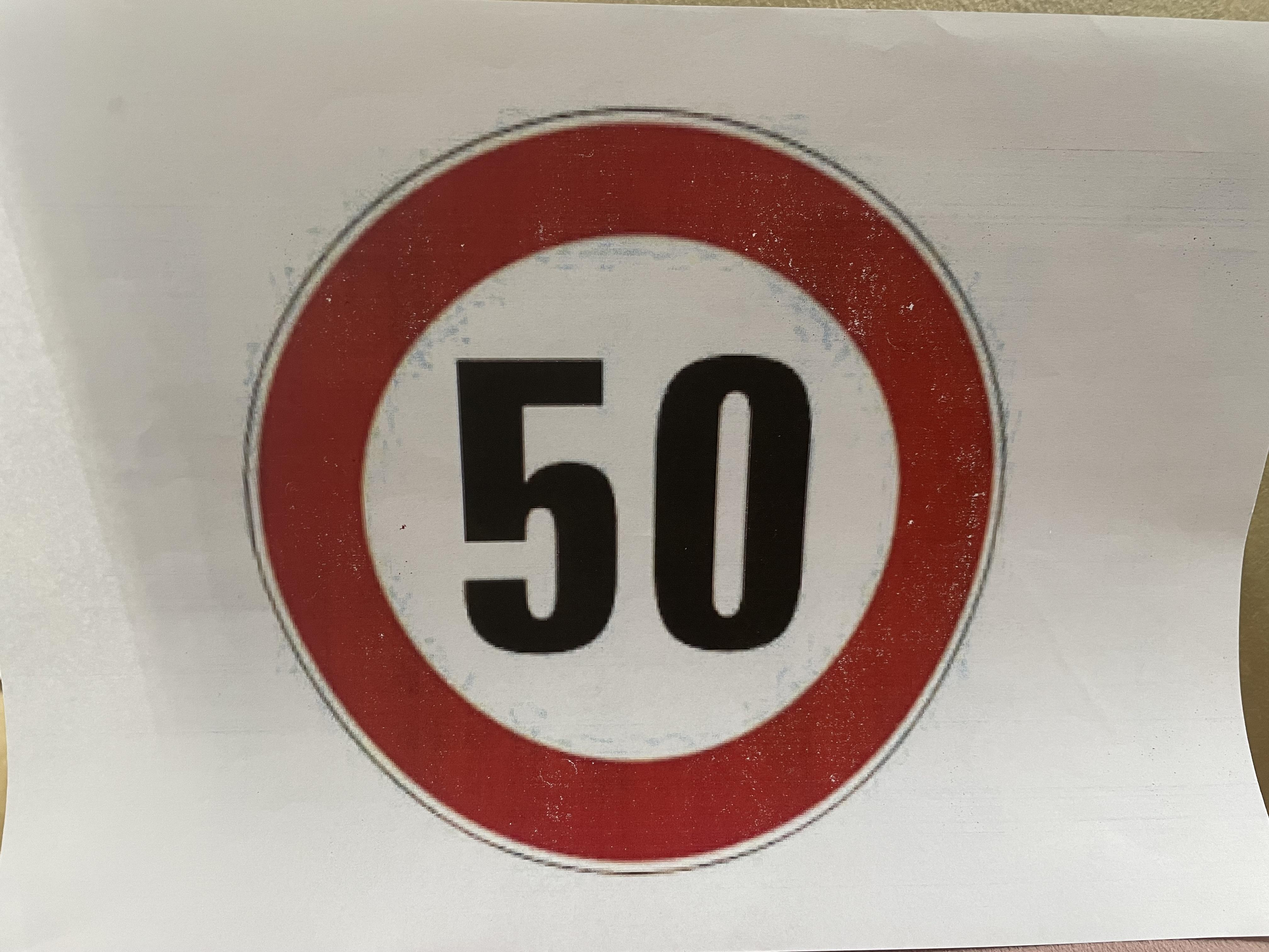50-Speed: (224, 98, 1028, 886)
